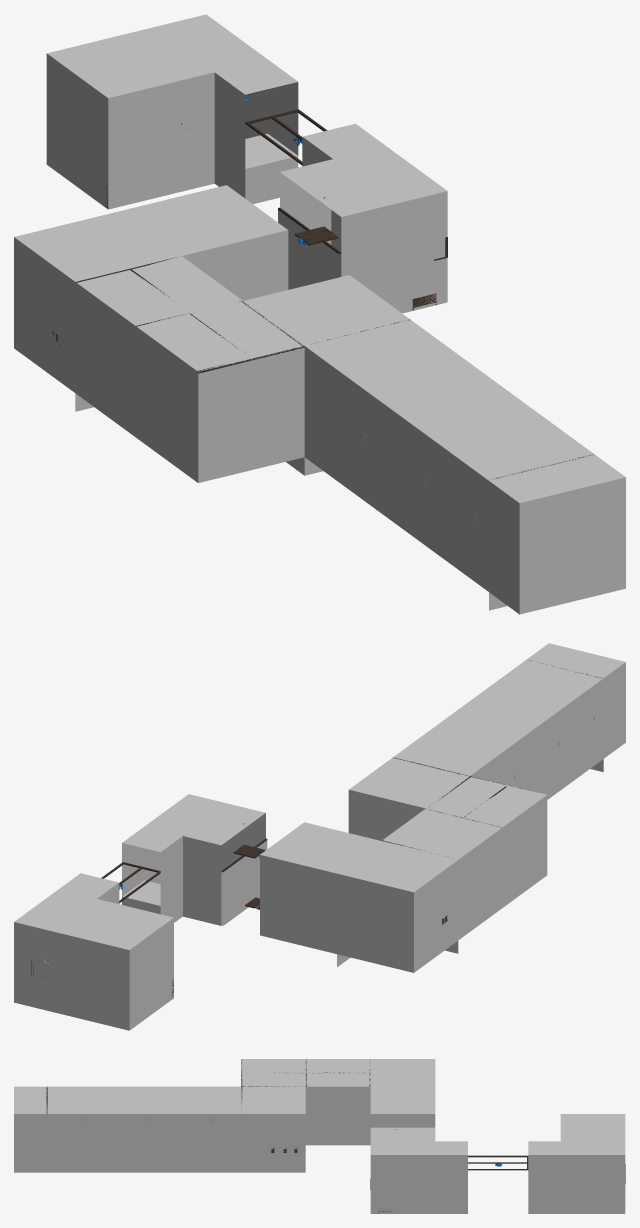
File: hus04_export.obj
3 views of the same model, one above another, from view 1: azimuth 30°, elevation 25°; view 2: azimuth 150°, elevation 25°; view 3: azimuth 270°, elevation 25° (orthographic). The views are drawn at different scales.
Visible parts, largest first — view 1: polySurface5; view 2: polySurface5; view 3: polySurface5.
Part boxes in pixels (x1,y1,x2,y2): polySurface5: (14,14,625,614); polySurface5: (14,643,625,1030); polySurface5: (14,1059,625,1213).
Size of the model in its own units: 210 by 70.35 by 566.
